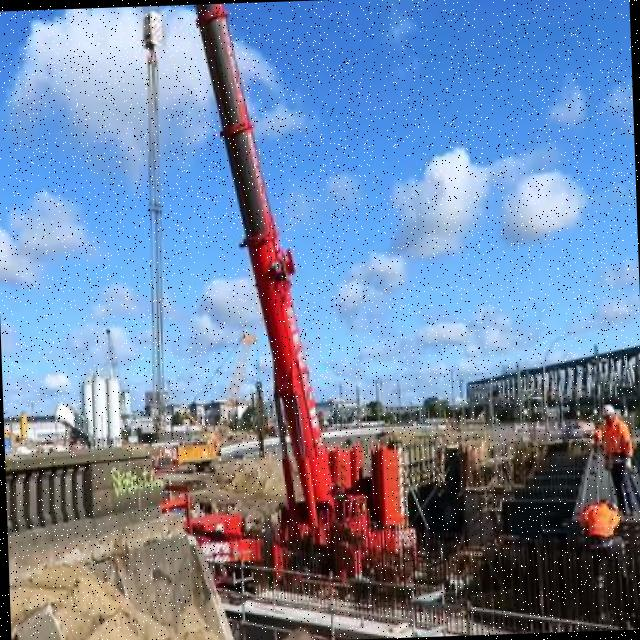Mobile Crane: (129, 0, 418, 590), (164, 326, 268, 474)
